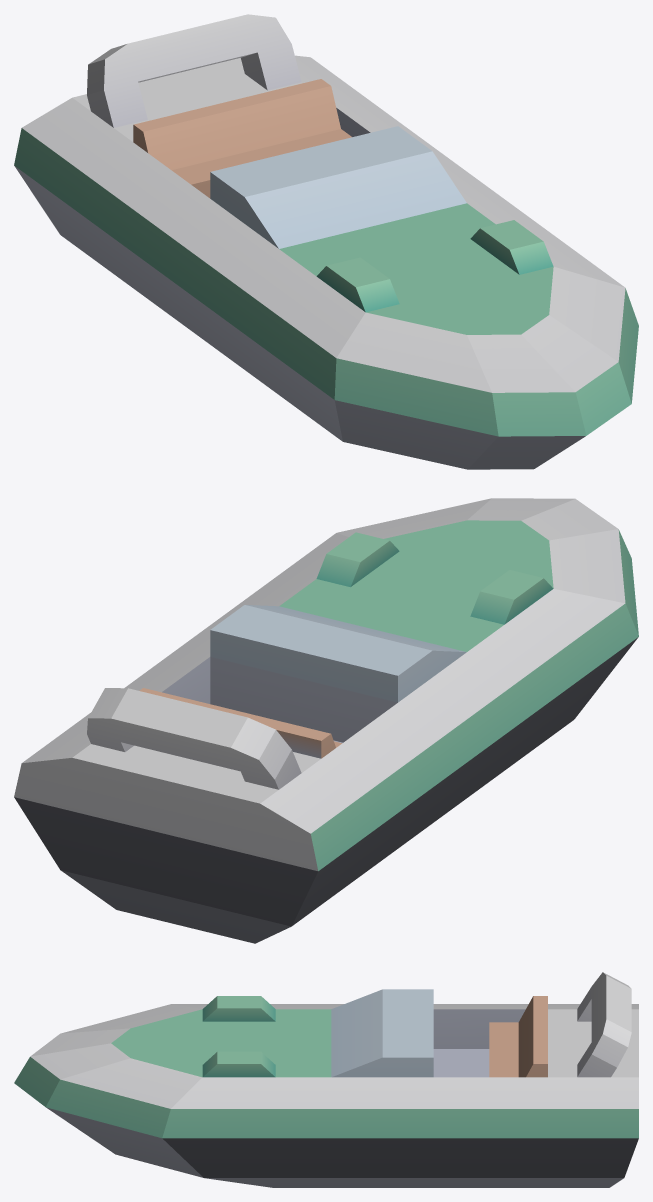
Rendered from small_boat.glb.
3 views of the same model, one above another, from view 1: azimuth 30°, elevation 25°; view 2: azimuth 150°, elevation 25°; view 3: azimuth 270°, elevation 25° (orthographic). The views are drawn at different scales.
Parts seen in each view (by area): view 1: geometry_0; view 2: geometry_0; view 3: geometry_0.
Part boxes in pixels (x1,y1,x2,y2): geometry_0: (14, 14, 638, 469); geometry_0: (14, 498, 638, 943); geometry_0: (14, 972, 638, 1187).
Bounding box in the file's own units: 2.09 × 1.46 × 5.
